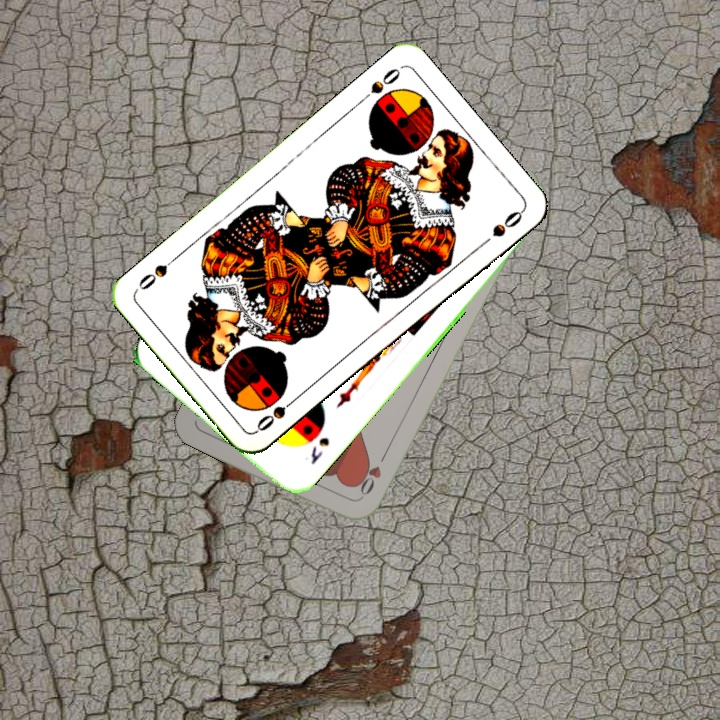HO: (355, 448, 390, 502)
SK: (306, 433, 332, 467)
SO: (252, 391, 302, 435), (355, 63, 403, 106)
